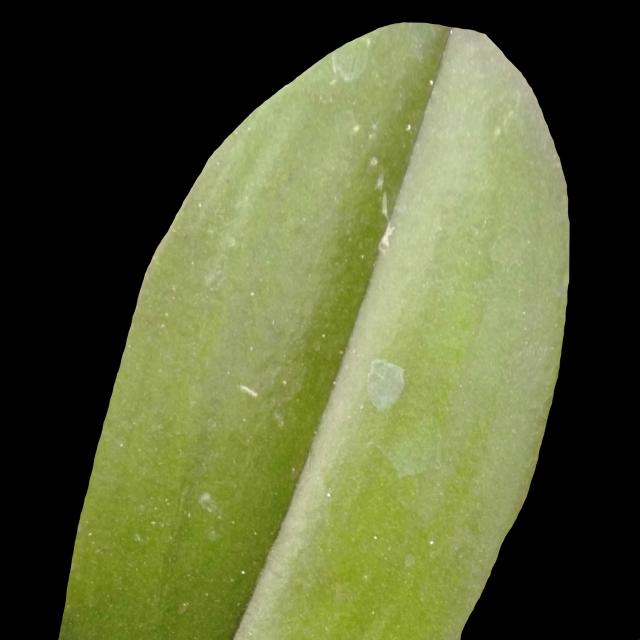mite: (133, 485, 231, 550), (197, 489, 218, 515), (401, 551, 417, 571), (366, 528, 383, 546), (204, 526, 219, 543), (176, 599, 190, 615), (148, 516, 164, 528), (367, 154, 380, 168), (403, 121, 413, 134), (426, 536, 436, 547), (370, 532, 380, 542), (238, 567, 247, 577)
spots: (56, 21, 572, 637)
